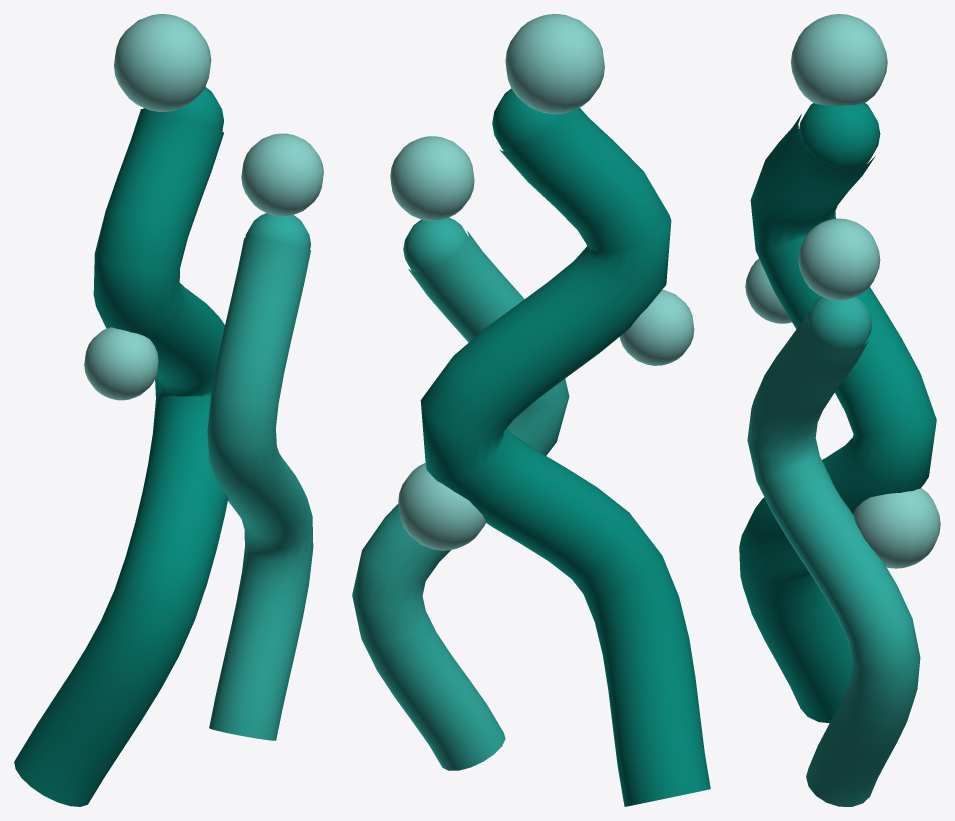
Rendered from alga.glb.
The picture shows the model from 3 angles, left to right: view 1: azimuth 30°, elevation 25°; view 2: azimuth 150°, elevation 25°; view 3: azimuth 270°, elevation 25°; orthographic projection. The views are drawn at different scales.
Bounding box in the file's own units: 0.6296 × 1.44 × 0.3536.
